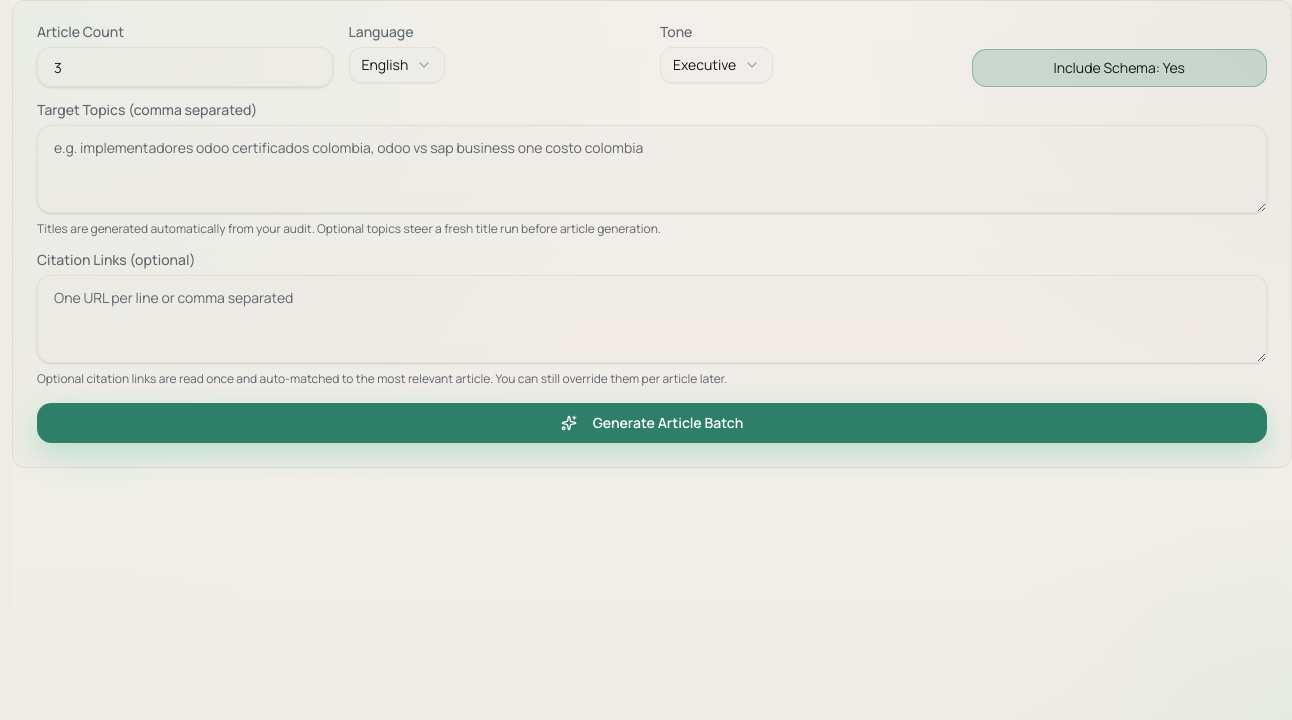
it: ArticleEngine component › shows explicit backend error when data pack is incomplete
The image size is (1292, 720).
Step 1. Click the button "Generate Article Batch" → [652, 423], box x1=37 y1=403 x2=1267 y2=443
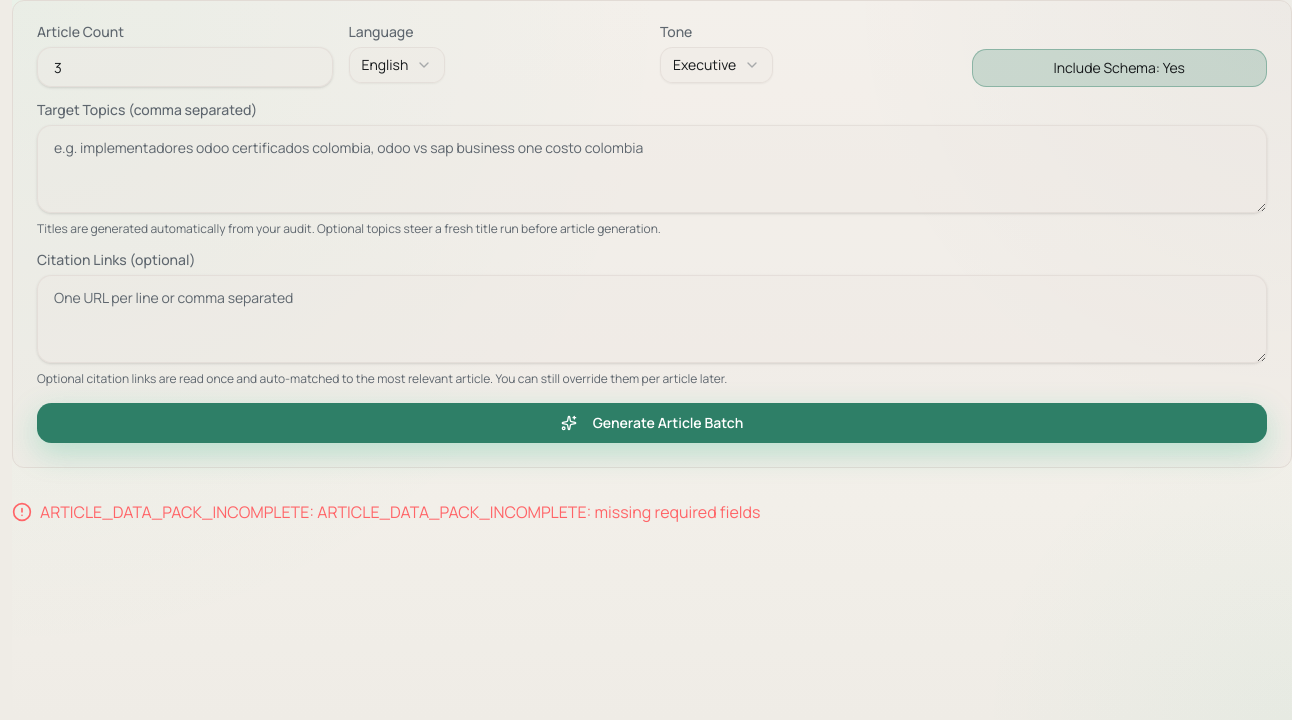
Expected: the text "ARTICLE_DATA_PACK_INCOMPLETE: ARTICLE_DATA_PACK_INCOMPLETE: missing required fields" is shown, x1=40 y1=501 x2=760 y2=523
